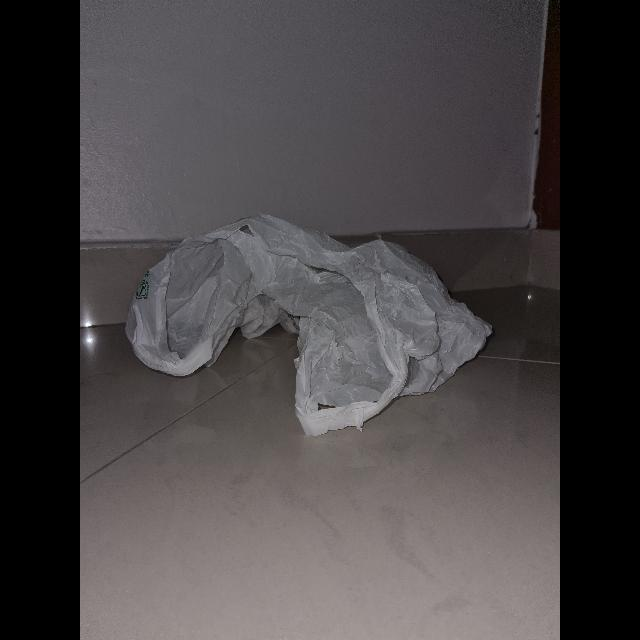plastic_bag: (127, 234, 493, 428)
